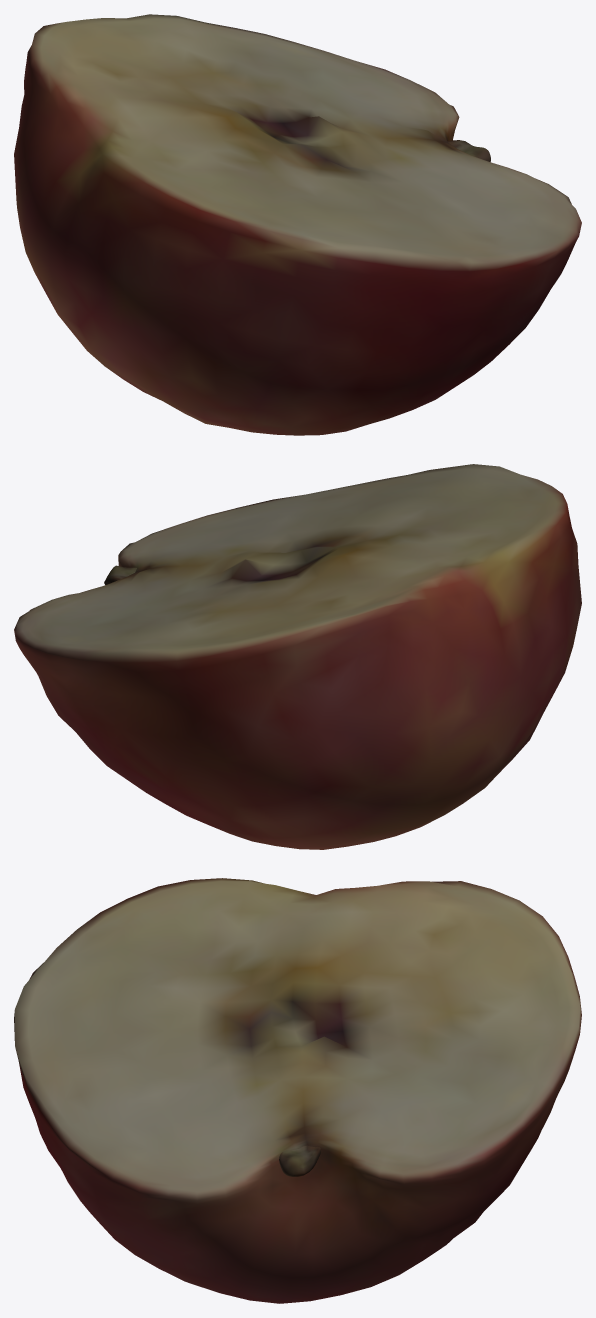
The model's file is apple_4.fbx.
3 views of the same model, one above another, from view 1: azimuth 30°, elevation 25°; view 2: azimuth 150°, elevation 25°; view 3: azimuth 270°, elevation 25° (orthographic). The views are drawn at different scales.
Parts seen in each view (by area): view 1: apple_4; view 2: apple_4; view 3: apple_4.
Part boxes in pixels (<box>): apple_4: <box>14,14,581,435</box>; apple_4: <box>14,464,581,849</box>; apple_4: <box>14,878,581,1303</box>.
Bounding box in the file's own units: 10.2 × 6.9 × 11.41.
